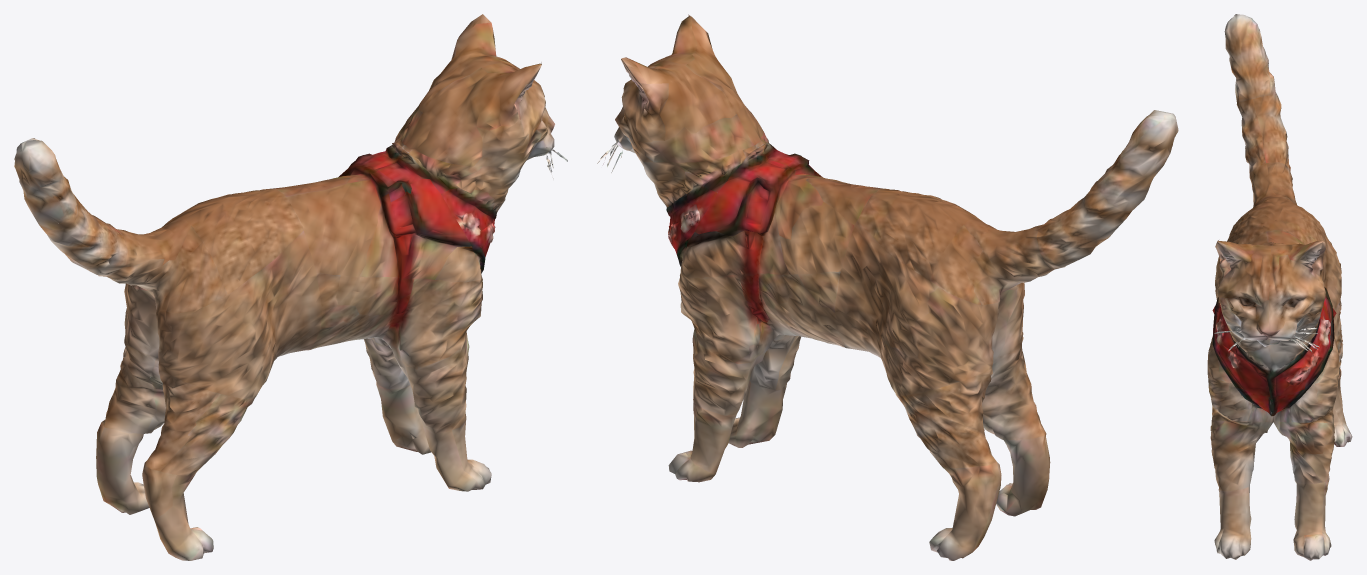
Rendered from MIKANCAT-lo.glb.
The picture shows the model from 3 angles, left to right: view 1: azimuth 30°, elevation 25°; view 2: azimuth 150°, elevation 25°; view 3: azimuth 270°, elevation 25°; orthographic projection. The views are drawn at different scales.
Parts seen in each view (by area): view 1: tripo_node_ca1c87f8-a32a-4d01-a97c-862ac9f56644; view 2: tripo_node_ca1c87f8-a32a-4d01-a97c-862ac9f56644; view 3: tripo_node_ca1c87f8-a32a-4d01-a97c-862ac9f56644.
Part boxes in pixels (x1=…): tripo_node_ca1c87f8-a32a-4d01-a97c-862ac9f56644: x1=14, y1=14, x2=567, y2=560; tripo_node_ca1c87f8-a32a-4d01-a97c-862ac9f56644: x1=597, y1=14, x2=1178, y2=560; tripo_node_ca1c87f8-a32a-4d01-a97c-862ac9f56644: x1=1207, y1=14, x2=1352, y2=560.
Bounding box in the file's own units: 1.29 × 0.998 × 0.3587.
Materials: 1 (1 with a texture image).
